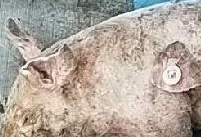text: (151, 59, 195, 89)
